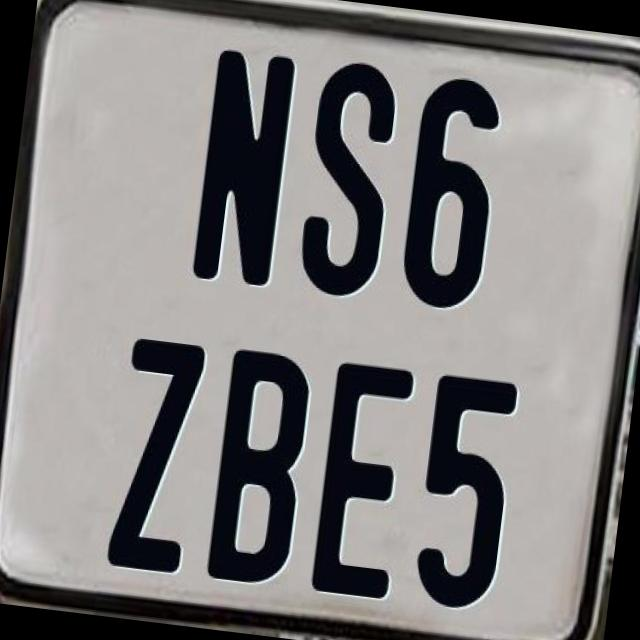5: (406, 372, 520, 620)
6: (396, 72, 509, 320)
B: (204, 346, 318, 589)
E: (307, 357, 419, 598)
N: (187, 46, 301, 286)
S: (295, 58, 402, 308)
Z: (104, 333, 206, 575)
